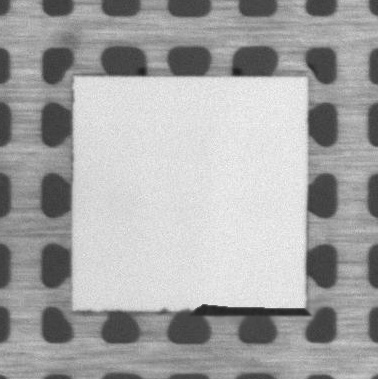DIE_BROKEN: (190, 303, 314, 318)
